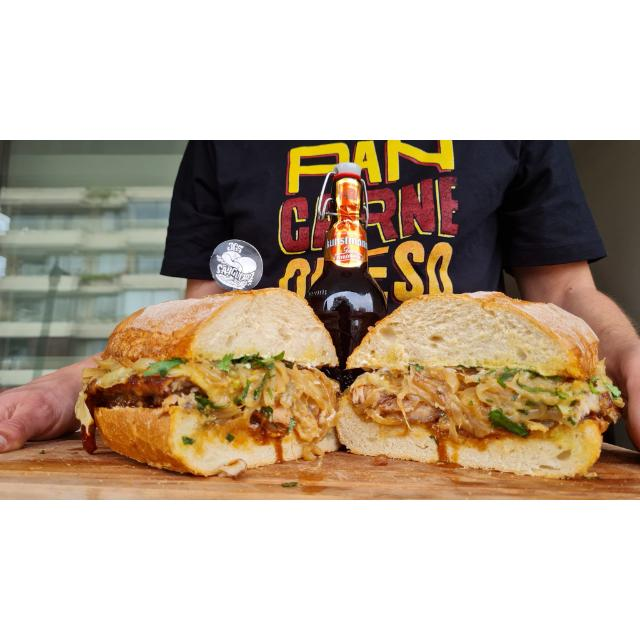organic: (81, 288, 625, 479)
